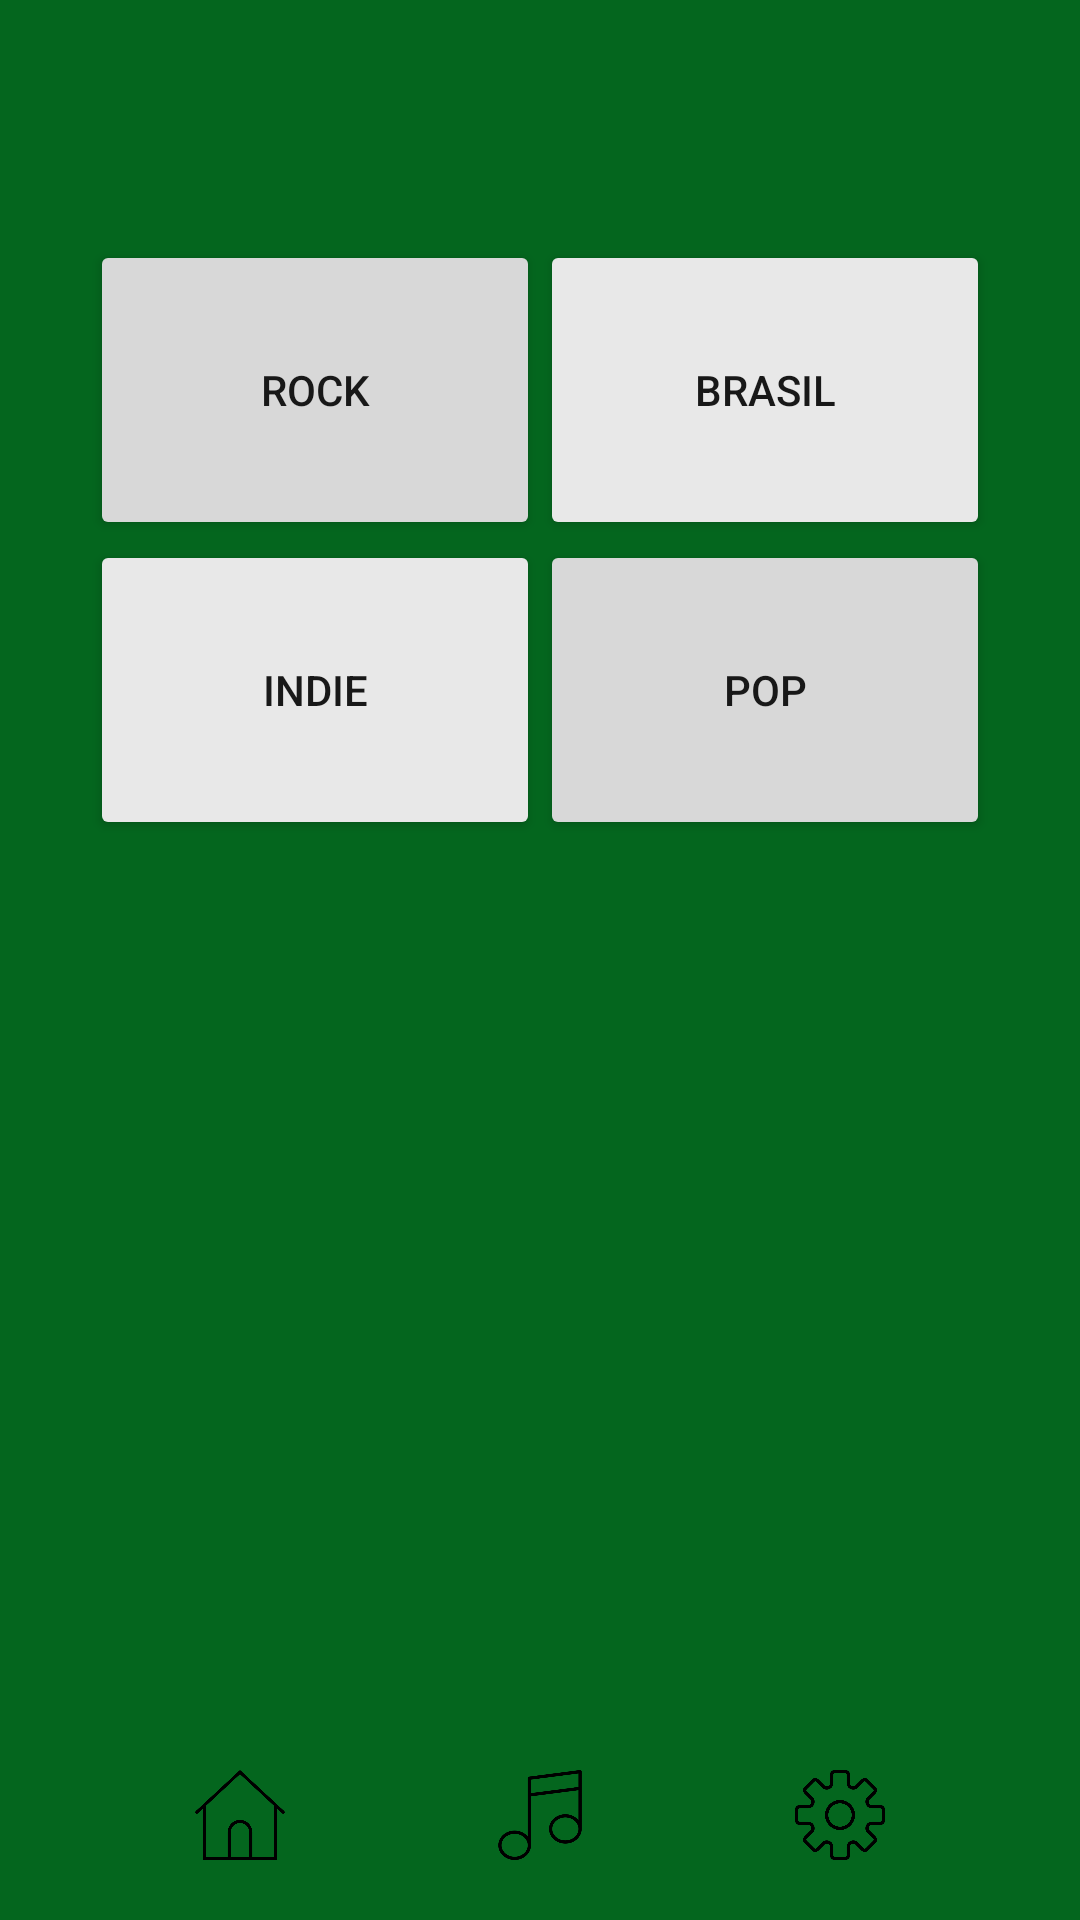

Icons on this 1080 × 1920 Android screen, each with the point to tap as point (x, y):
home: point (240, 1815)
music: point (540, 1815)
settings: point (840, 1815)
